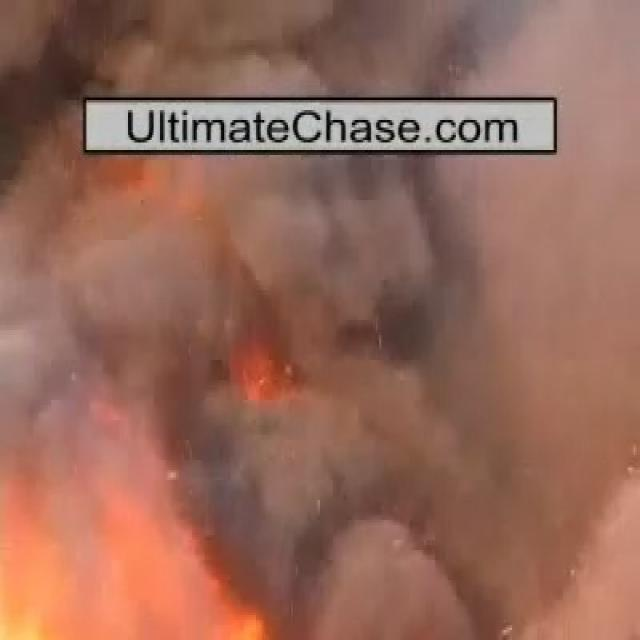smoke: (22, 165, 587, 496), (50, 2, 544, 92)
